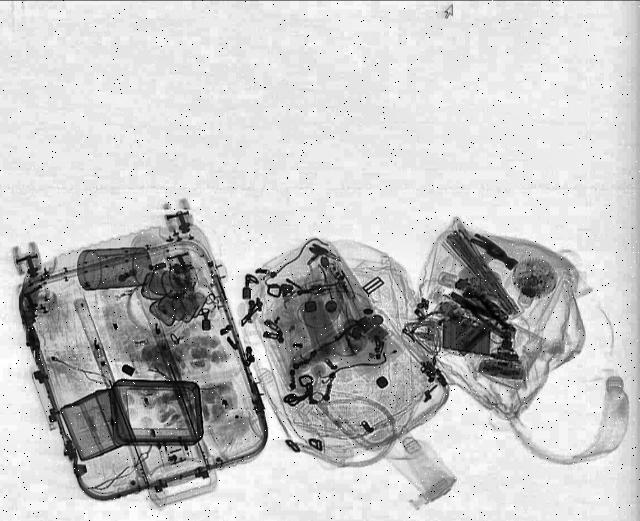Pliers: (450, 281, 522, 333)
